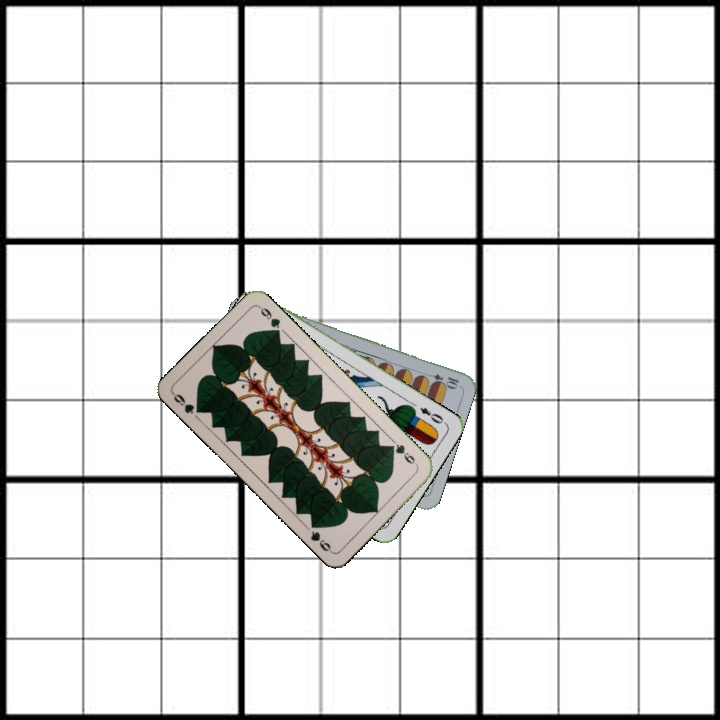E10: (421, 369, 461, 390)
EO: (416, 403, 446, 427)
G9: (168, 389, 206, 417), (385, 440, 420, 469)
